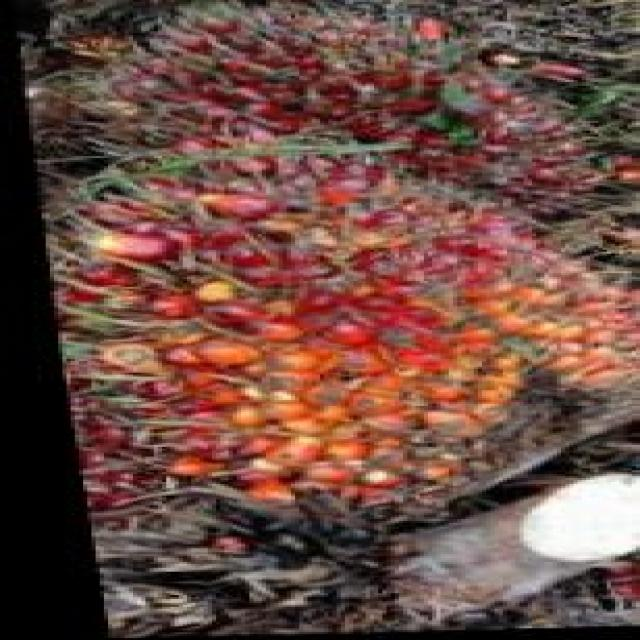Ripefruit: (21, 133, 640, 519), (75, 1, 627, 212)
